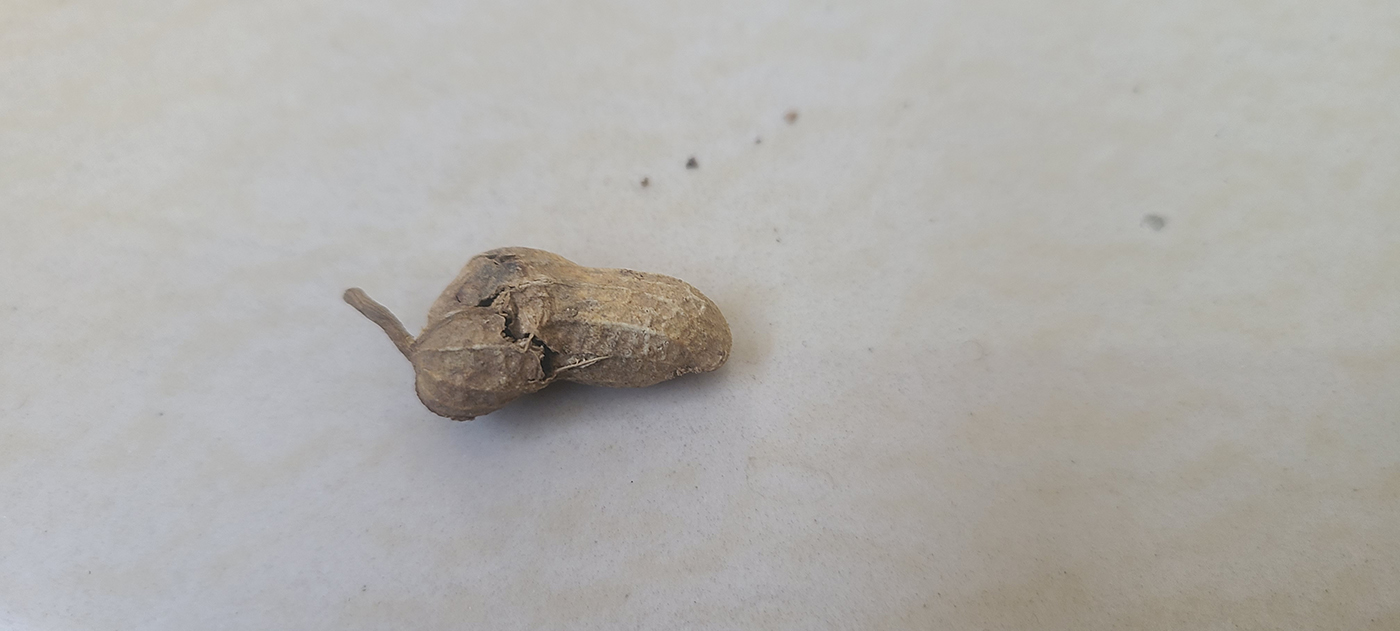l: (410, 245, 734, 422)
